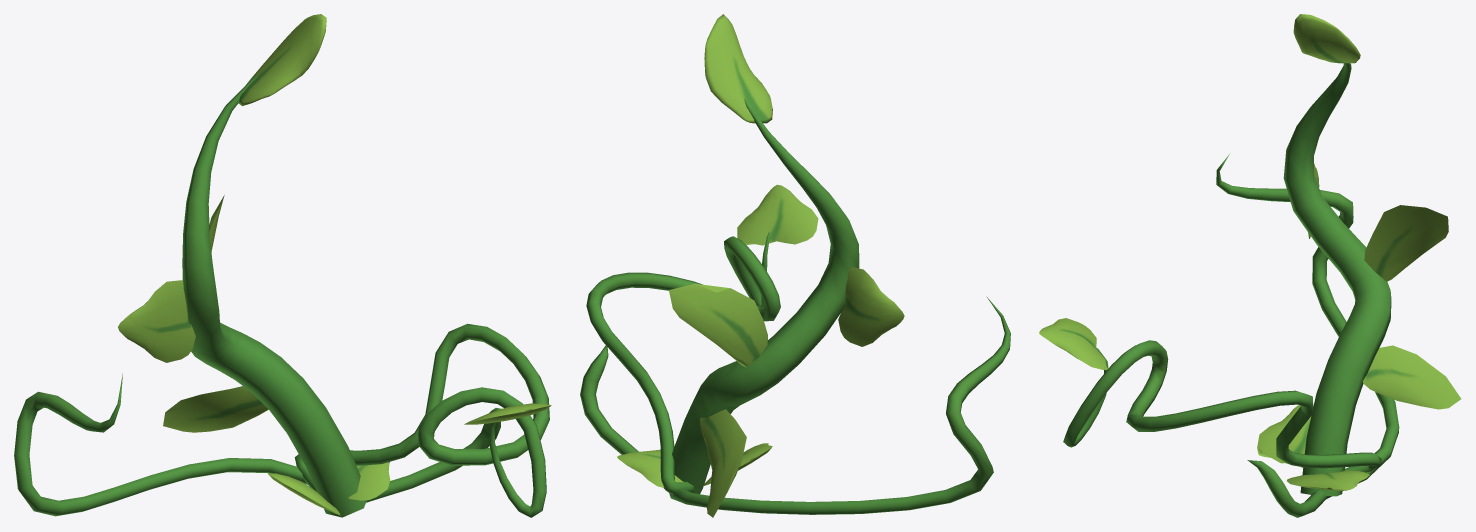
The model's file is Seeding.fbx.
The picture shows the model from 3 angles, left to right: view 1: azimuth 30°, elevation 25°; view 2: azimuth 150°, elevation 25°; view 3: azimuth 270°, elevation 25°; orthographic projection. The views are drawn at different scales.
Visible parts, largest first — view 1: BezierCurve, BezierCurve_006, BezierCurve_005, Leaves1, Leaves2, Leaves5, BezierCurve_003, Leaves007, Leaves006, Leaves008; view 2: BezierCurve, BezierCurve_006, BezierCurve_005, Leaves4, Leaves2, Leaves006, Leaves1, Leaves5, BezierCurve_003, Leaves007; view 3: BezierCurve, BezierCurve_006, Leaves4, Leaves5, BezierCurve_005, Leaves2, Leaves006, BezierCurve_003, Leaves008, Leaves007.
Part boxes in pixels (box(x1,y1,x2,y2)): BezierCurve: box(182, 75, 366, 517); BezierCurve_006: box(294, 323, 549, 517); BezierCurve_005: box(14, 373, 308, 516); Leaves1: box(118, 280, 195, 362); Leaves2: box(238, 14, 326, 106); Leaves5: box(163, 386, 268, 432); BezierCurve_003: box(366, 408, 501, 502); Leaves007: box(348, 462, 390, 500); Leaves006: box(464, 403, 551, 424); Leaves008: box(267, 473, 341, 515); BezierCurve: box(664, 98, 859, 494); BezierCurve_006: box(586, 232, 780, 495); BezierCurve_005: box(669, 296, 1010, 514); Leaves4: box(669, 283, 767, 367); Leaves2: box(704, 14, 772, 123); Leaves006: box(737, 184, 818, 245); Leaves1: box(838, 267, 904, 346); Leaves5: box(700, 409, 746, 517); BezierCurve_003: box(580, 345, 638, 454); Leaves007: box(617, 449, 683, 487); BezierCurve: box(1283, 63, 1391, 496); BezierCurve_006: box(1063, 340, 1381, 472); Leaves4: box(1364, 205, 1448, 281); Leaves5: box(1363, 345, 1461, 409); BezierCurve_005: box(1216, 154, 1399, 498); Leaves2: box(1293, 14, 1360, 63); Leaves006: box(1039, 318, 1107, 369); BezierCurve_003: box(1247, 460, 1328, 517); Leaves008: box(1257, 405, 1311, 467); Leaves007: box(1287, 470, 1369, 490).
Size of the model in its own units: 134 by 143 by 116.
